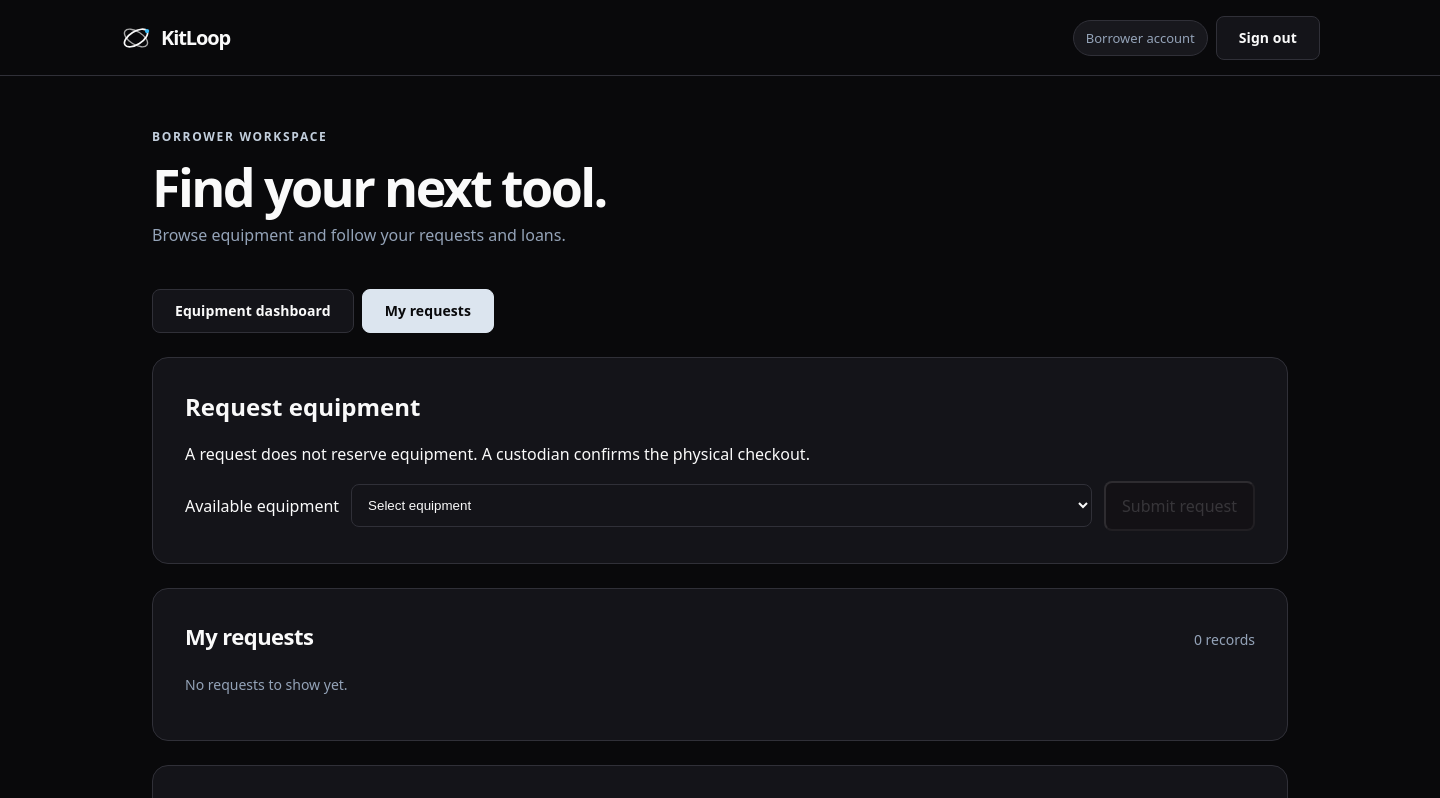
Borrower workflow integration in the React app (mocked HTTP) › distinguishes successful creation from a failed history refresh and blocks resubmission
The width and height of the screenshot is (1440, 798).
Select "Camera · CAM-01" in the dropdown labelled "Available equipment" at (722, 506), box [351,484,1092,527]
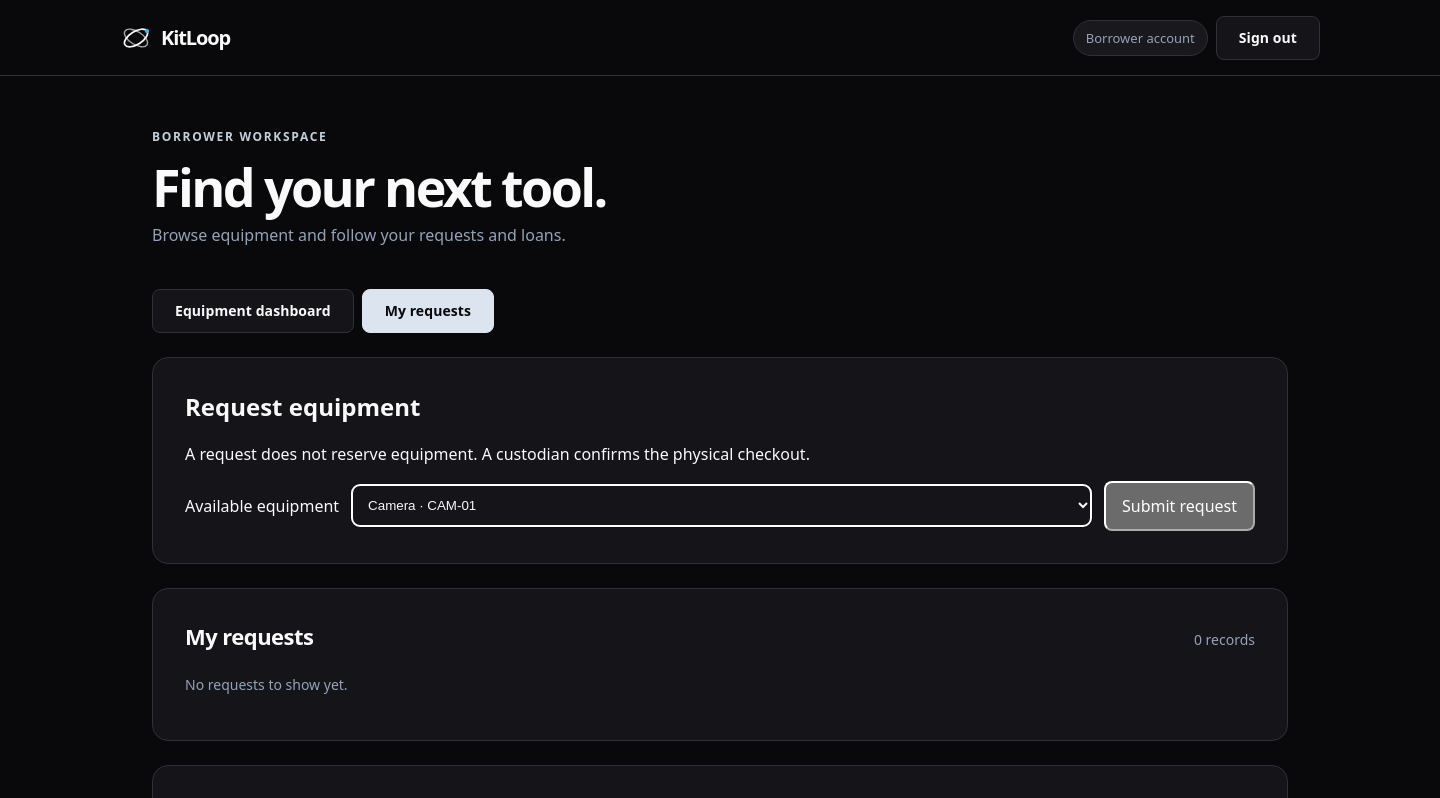
Click the button "Submit request".
click(1180, 506)  # box [1104,481,1255,531]
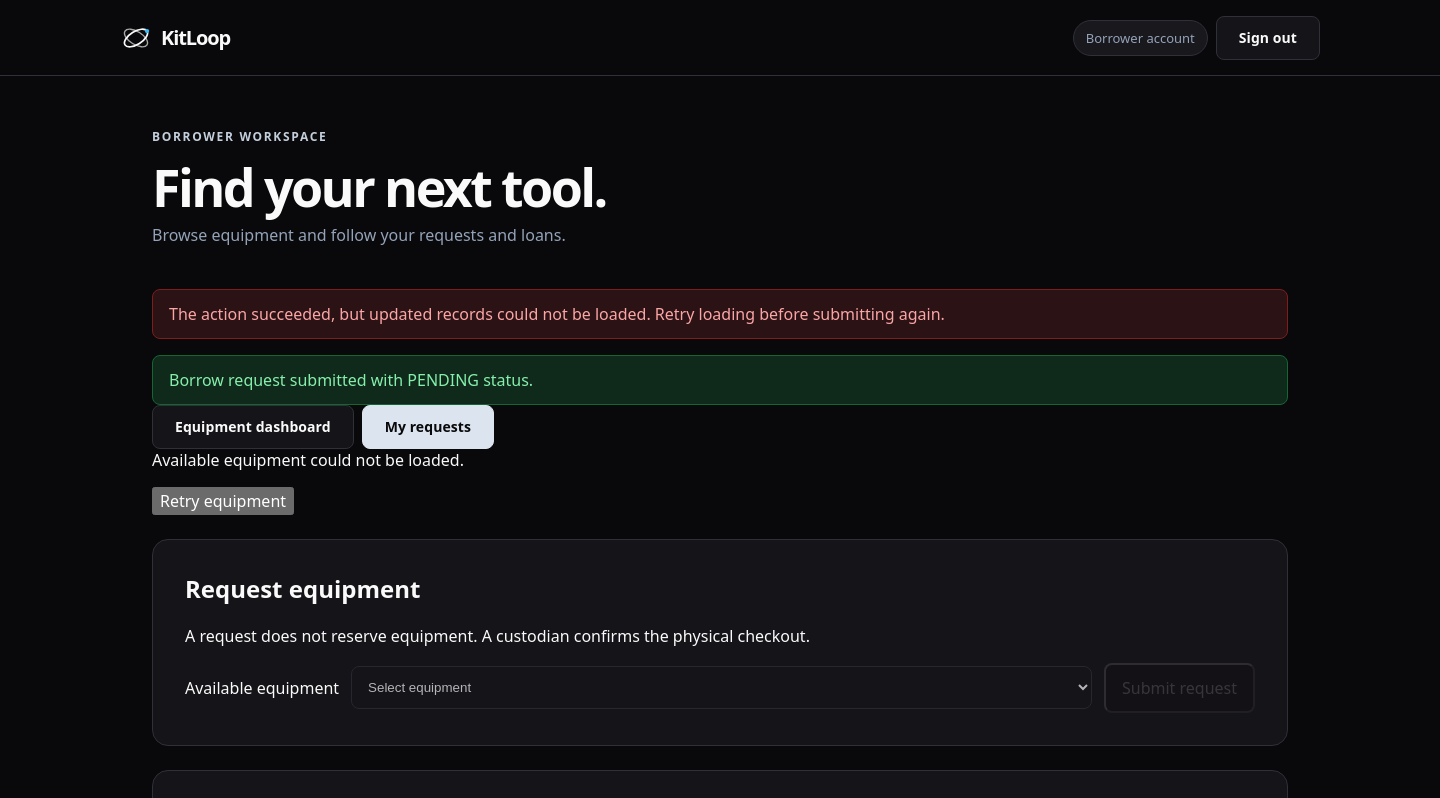
expect the text "The action succeeded, but updated records could not be loaded" is shown: met, box [169,303,945,325]
expect the button "Submit request" is disabled: met, box [1104,663,1255,713]
